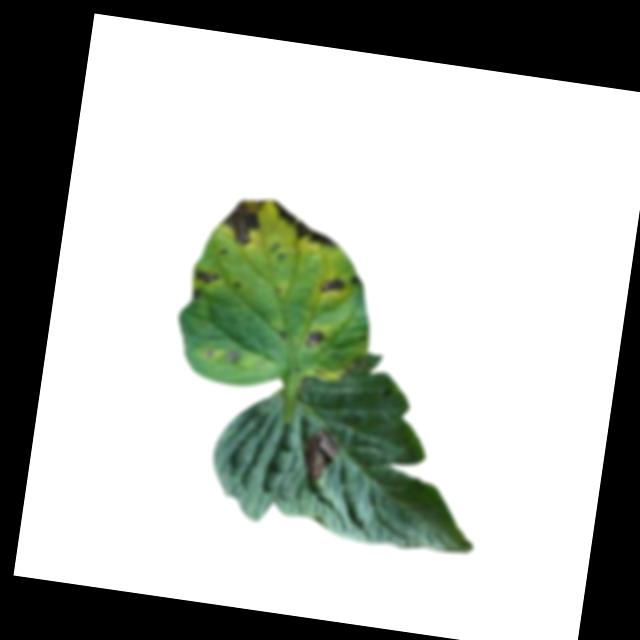Early_blight: (265, 200, 342, 249), (297, 425, 342, 485), (217, 194, 263, 249), (318, 274, 344, 298), (302, 328, 326, 350), (193, 269, 219, 286), (350, 274, 362, 286), (189, 289, 200, 302)
